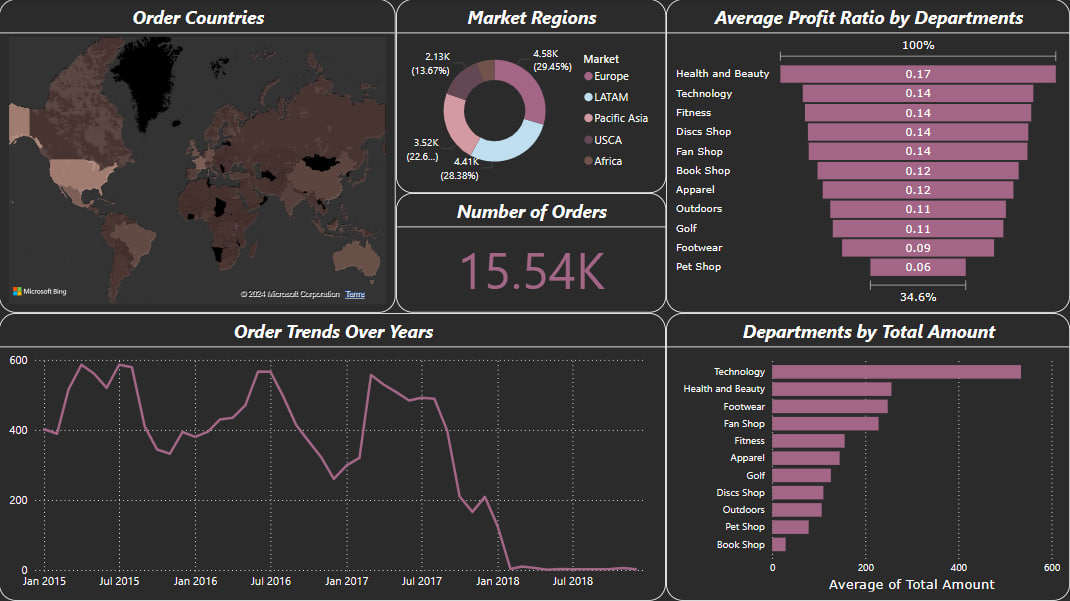

What the dashboard file says about the page in this screenshot:
{"tool":"powerbi","page":{"name":"Orders","canvas":[1280,720],"ordinal":1},"visuals":[{"type":"lineChart","title":"Order Trends Over Years","fields":{"Y":["Count(Working Sheet.order_item_id)"],"Category":["Working Sheet.order_date.Variation.Date Hierarchy.Year","Working Sheet.order_date.Variation.Date Hierarchy.Quarter","Working Sheet.order_date.Variation.Date Hierarchy.Month"]},"box":[0,375.3,797.2,344.2],"z":0},{"type":"card","title":"Number of Orders","fields":{"Values":["Count(Working Sheet.order_item_id)"]},"box":[474.5,231.9,322.7,143.4],"z":1000},{"type":"filledMap","title":"Order Countries","fields":{"Category":["Working Sheet.order_country"]},"box":[0,0,474.5,375.3],"z":2000},{"type":"clusteredBarChart","title":"Departments by Total Amount","fields":{"Category":["Working Sheet.department_name"],"Y":["Avg(Working Sheet.order_item_total_amount)"]},"box":[797.2,375.3,482.8,344.2],"z":3000},{"type":"funnel","title":"Average Profit Ratio by Departments","fields":{"Y":["Avg(Working Sheet.order_item_profit_ratio)"],"Category":["Working Sheet.department_name"]},"box":[797.2,0,482.8,375.3],"z":4000},{"type":"donutChart","title":"Market Regions","fields":{"Category":["Working Sheet.market"],"Y":["Count(Working Sheet.order_item_id)"]},"box":[474.5,0,322.7,231.9],"z":5000}]}

Visuals, with their boxes in screenshot pixels (x1, y1, x2, y2), scaled from the page's 1280x720 canvas onto the 1070x601 screenshot:
"Order Trends Over Years" lineChart: (left=0, top=313, right=666, bottom=600)
"Number of Orders" card: (left=397, top=194, right=666, bottom=313)
"Order Countries" filledMap: (left=0, top=0, right=397, bottom=313)
"Departments by Total Amount" clusteredBarChart: (left=666, top=313, right=1069, bottom=600)
"Average Profit Ratio by Departments" funnel: (left=666, top=0, right=1069, bottom=313)
"Market Regions" donutChart: (left=397, top=0, right=666, bottom=194)
